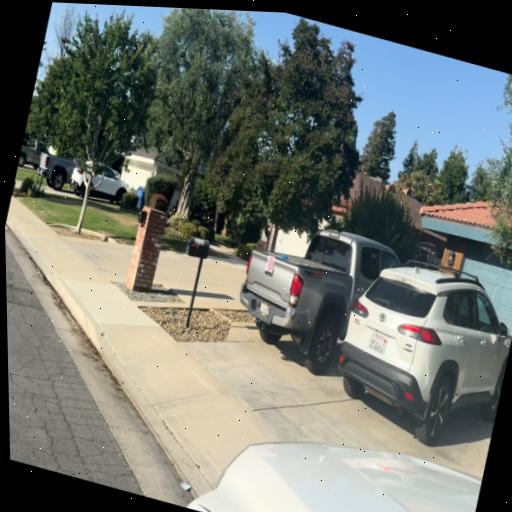bullseye: (265, 255, 275, 274)
